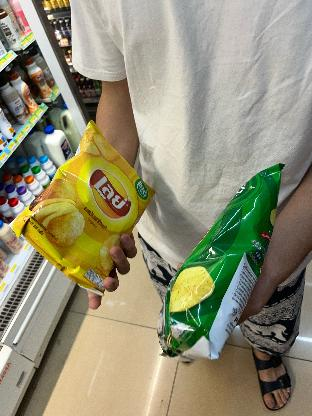Plastic Packaging: (148, 156, 296, 368), (9, 118, 168, 290)
